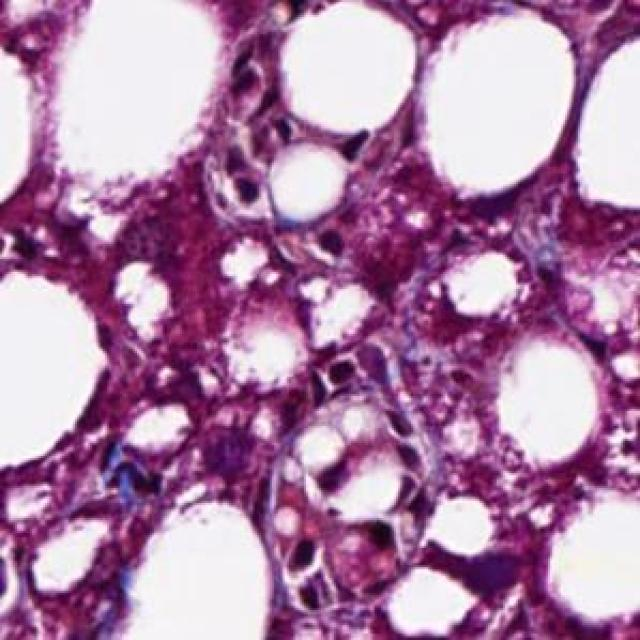inflammation: (274, 516, 402, 625), (202, 107, 310, 220), (313, 342, 392, 409)
